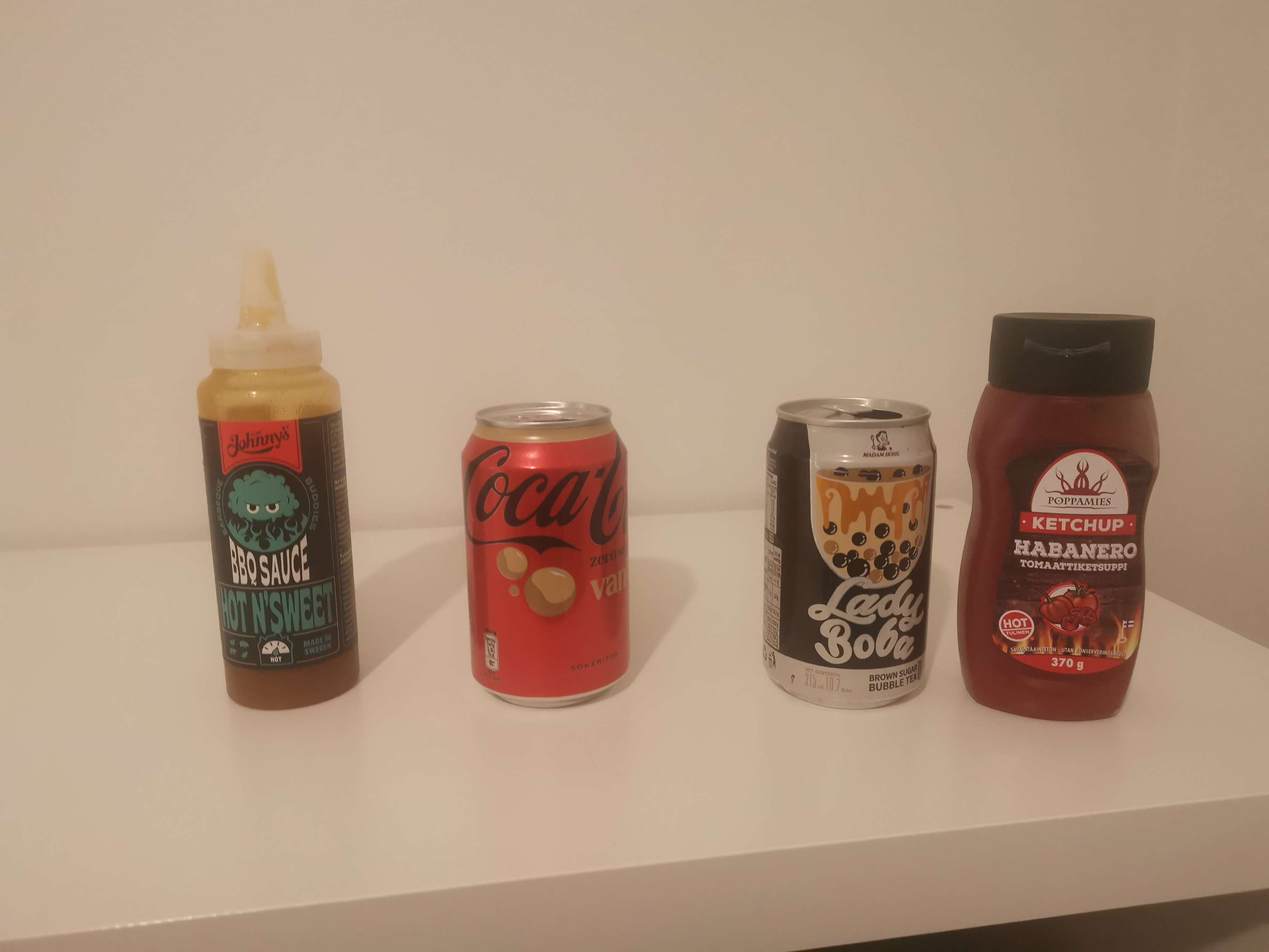Pantburk: (760, 396, 939, 711), (460, 399, 632, 710)
